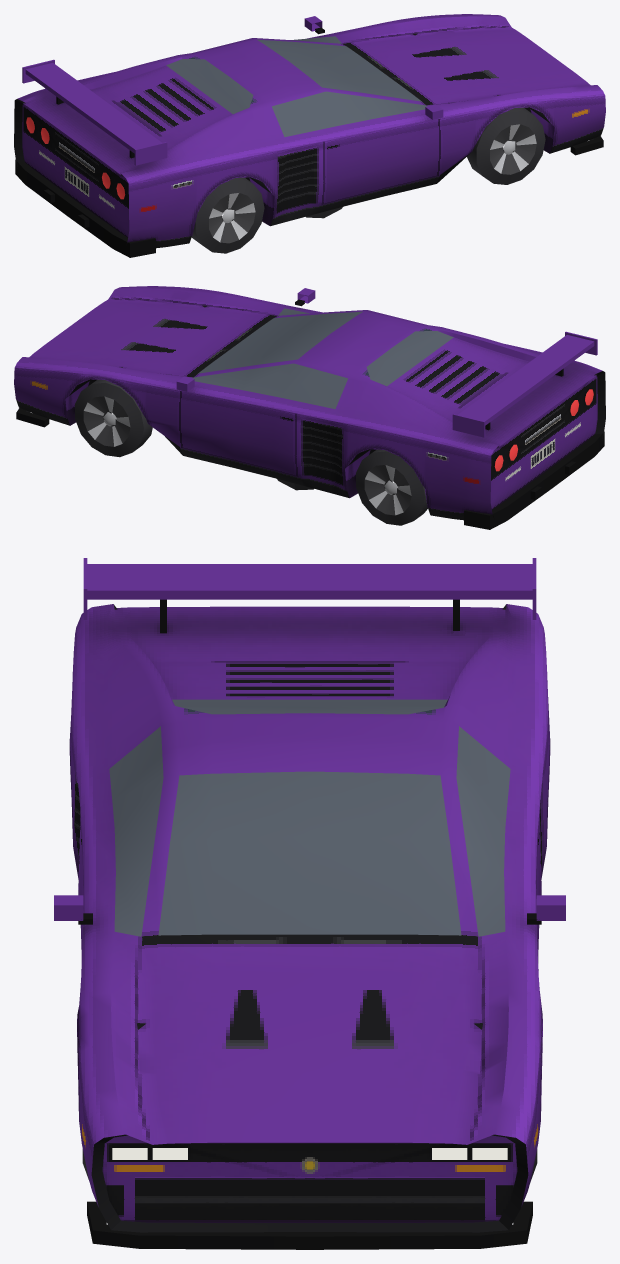
File: strix.glb
The picture shows the model from 3 angles, top to bottom: view 1: azimuth 30°, elevation 25°; view 2: azimuth 150°, elevation 25°; view 3: azimuth 270°, elevation 25°; orthographic projection. The views are drawn at different scales.
Parts seen in each view (by area): view 1: body, wheel front right, wheel rear right; view 2: body, wheel front left, wheel rear left; view 3: body.
Part boxes in pixels (x1,y1,x2,y2): body: (14,14,605,257); wheel front right: (467,107,545,184); wheel rear right: (191,177,264,253); body: (14,286,605,529); wheel front left: (75,379,152,457); wheel rear left: (356,449,427,525); body: (54,558,565,1249).
Size of the model in its own units: 4.28 by 1.37 by 1.93.
10 materials, 1 textured.
